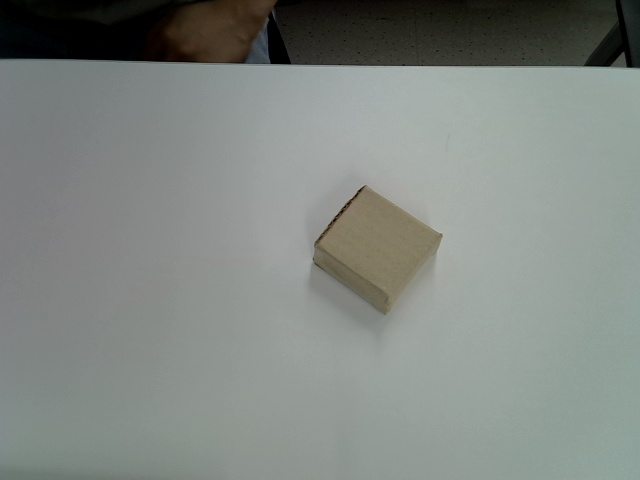normal: (312, 184, 443, 316)
